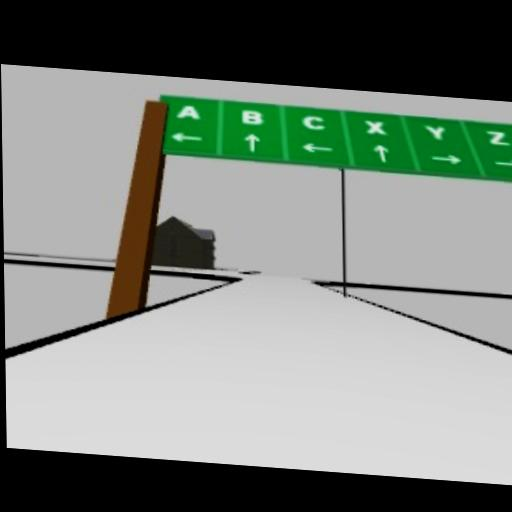A: (176, 102, 201, 119)
B: (240, 108, 263, 125)
C: (301, 113, 326, 132)
Left: (169, 129, 202, 144), (300, 141, 333, 154)
Right: (430, 153, 462, 165), (494, 159, 512, 169)
Straight: (243, 132, 261, 153), (373, 144, 388, 163)
X: (364, 119, 387, 134)
Y: (423, 124, 446, 140)
Z: (487, 128, 510, 145)
